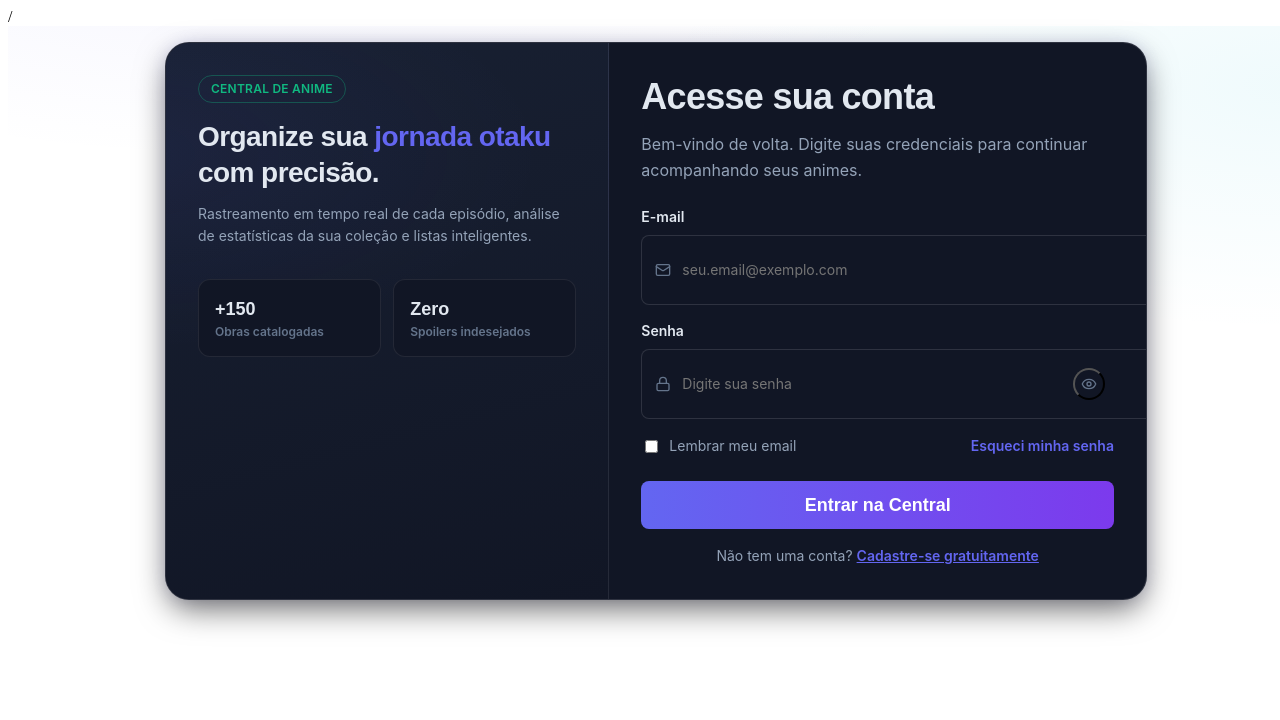
frontend authentication flows › valida campos de login antes de chamar o serviço
The width and height of the screenshot is (1280, 720).
Click the button "Entrar na Central": (878, 505) [641, 481, 1114, 529]
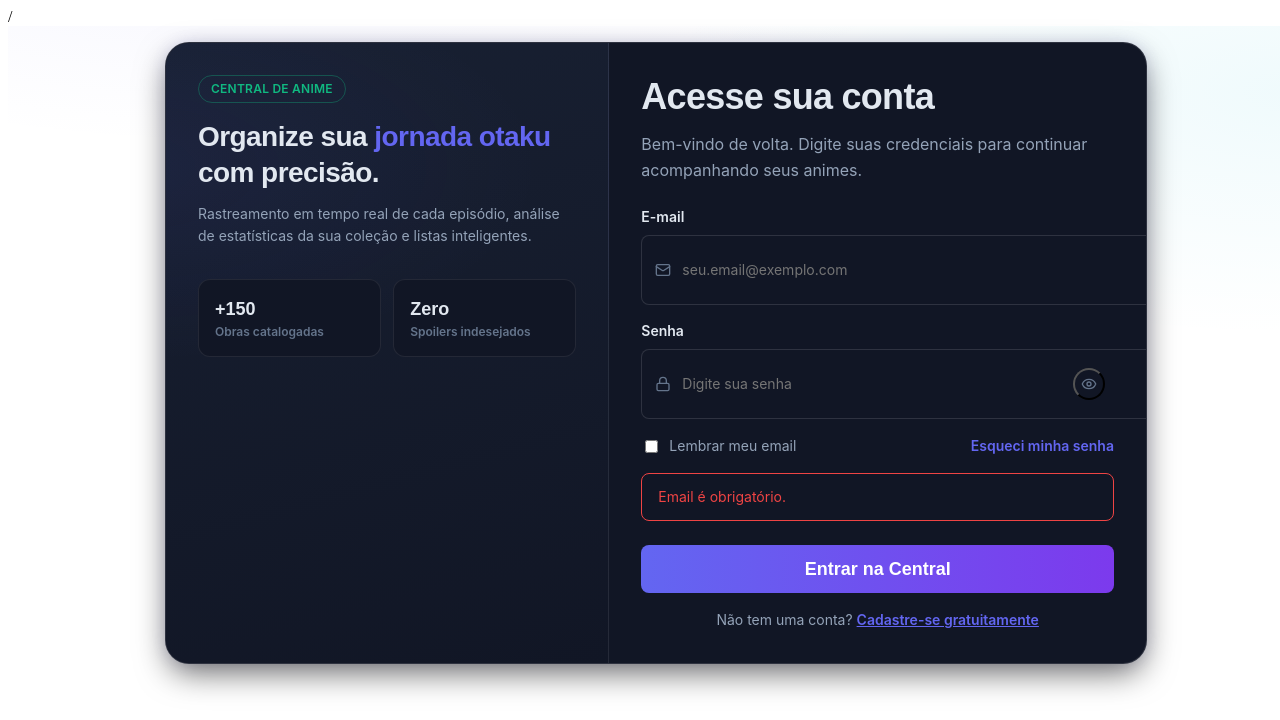
Result: the text "Email é obrigatório." is shown at [641, 473, 1114, 521]
